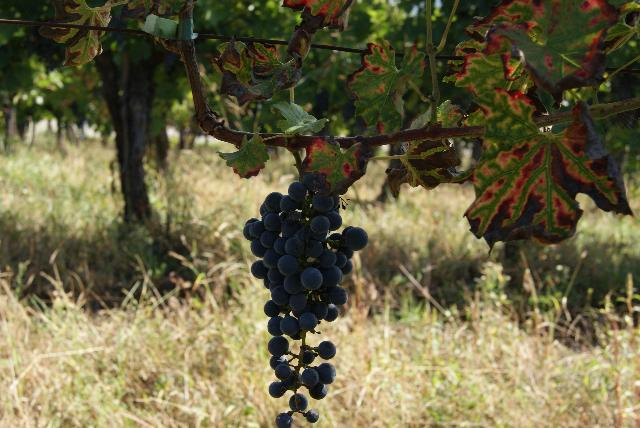grapes: (244, 181, 368, 428)
